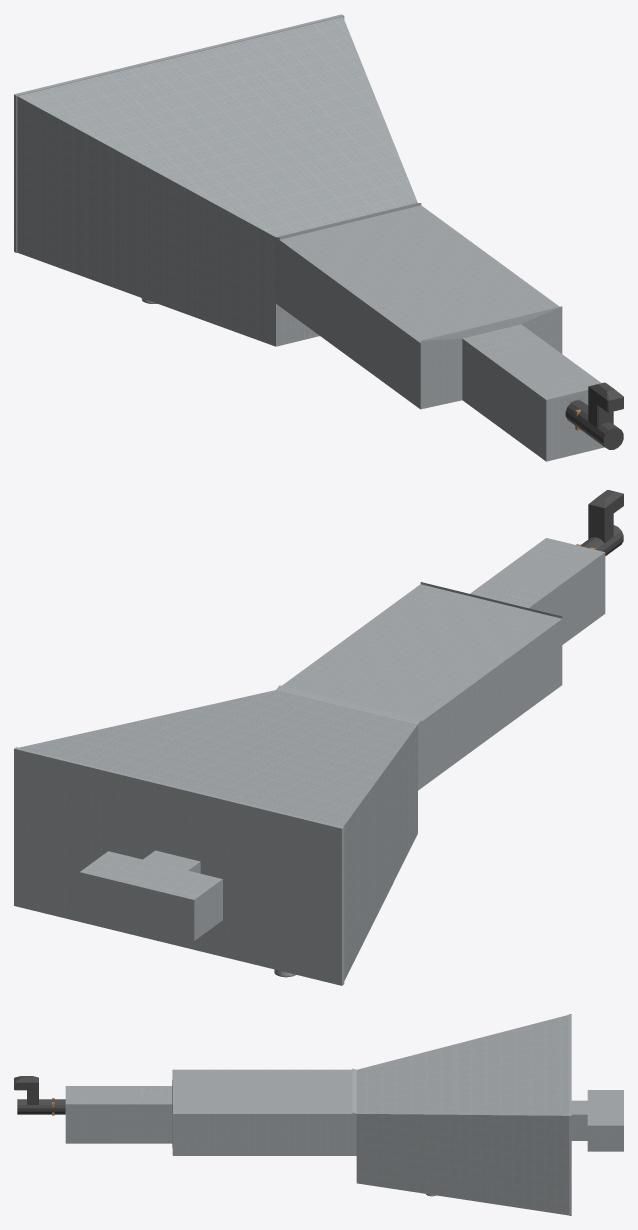
The model's file is level2.fbx.
3 views of the same model, one above another, from view 1: azimuth 30°, elevation 25°; view 2: azimuth 150°, elevation 25°; view 3: azimuth 270°, elevation 25° (orthographic). The views are drawn at different scales.
Visible parts, largest first — view 1: Cube.002, Cylinder; view 2: Cube.002, Cylinder; view 3: Cube.002, Cylinder.
Boxes of the visible parts, <box> form: Cube.002: <box>14,14,604,461</box>; Cylinder: <box>565,382,623,449</box>; Cube.002: <box>14,538,605,985</box>; Cylinder: <box>580,490,623,555</box>; Cube.002: <box>65,1014,623,1215</box>; Cylinder: <box>14,1076,65,1114</box>.
Size of the model in its own units: 3160 by 1821 by 7997.
